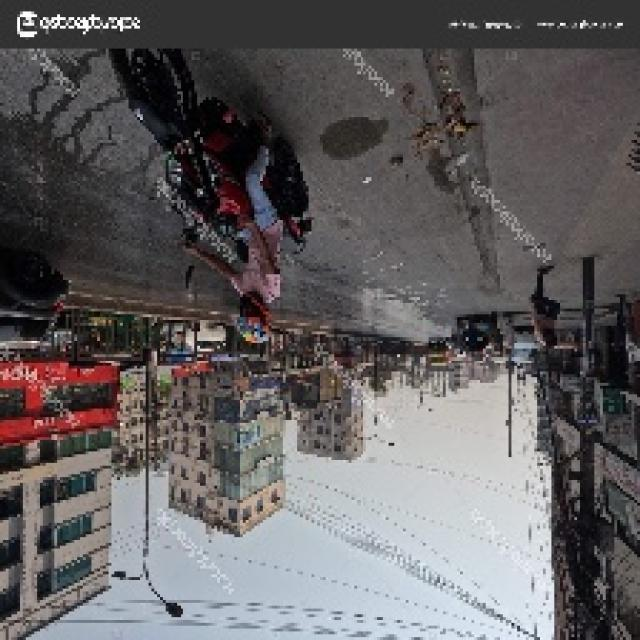bike: (103, 58, 309, 300)
car: (507, 328, 549, 366)
